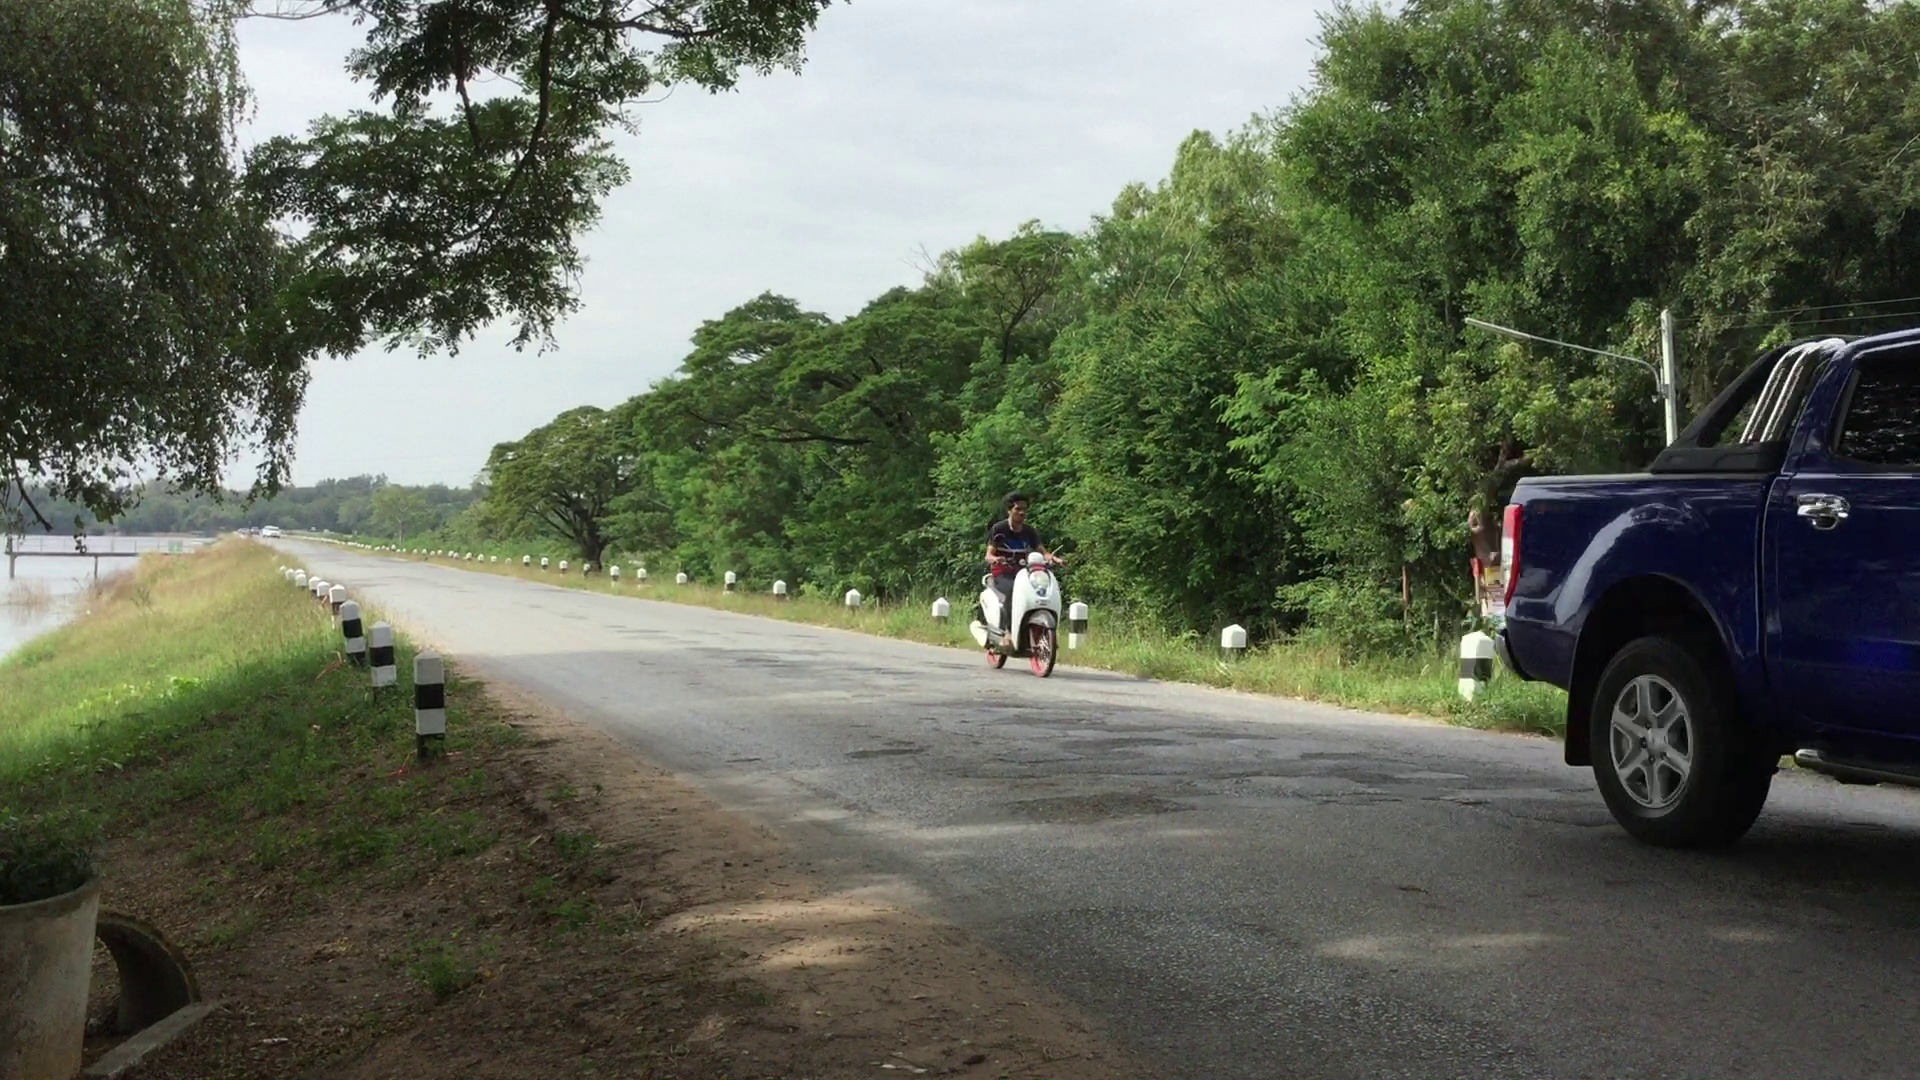car: (1493, 356, 1920, 869)
person: (972, 494, 1063, 682)
